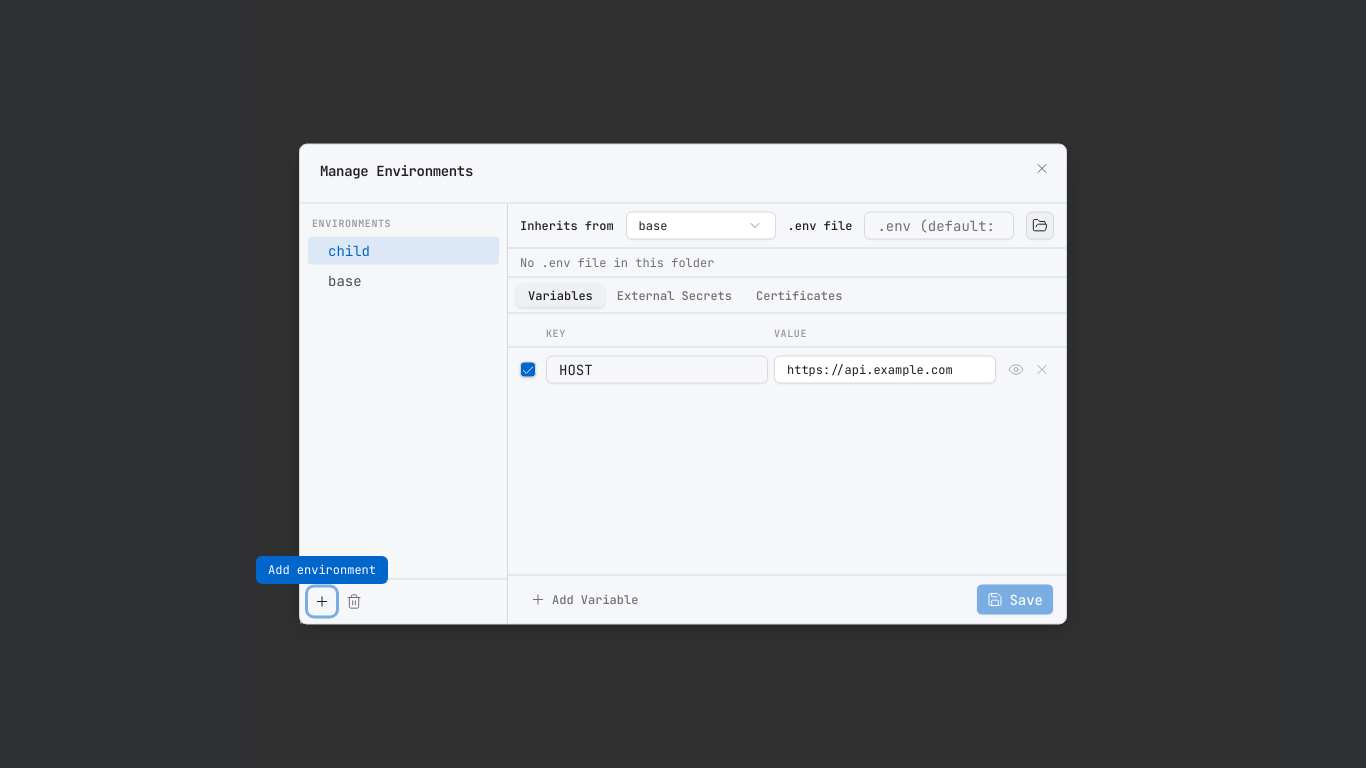
Scenario: EnvironmentDialog inherited rows › overridden_rows_are_not_listed_as_inherited
This screenshot has width=1366, height=768.
Expected: the field named "Variable key 1" is shown, x1=546 y1=356 x2=768 y2=384
Click the tab "External Secrets": (674,295) x1=605 y1=283 x2=744 y2=307
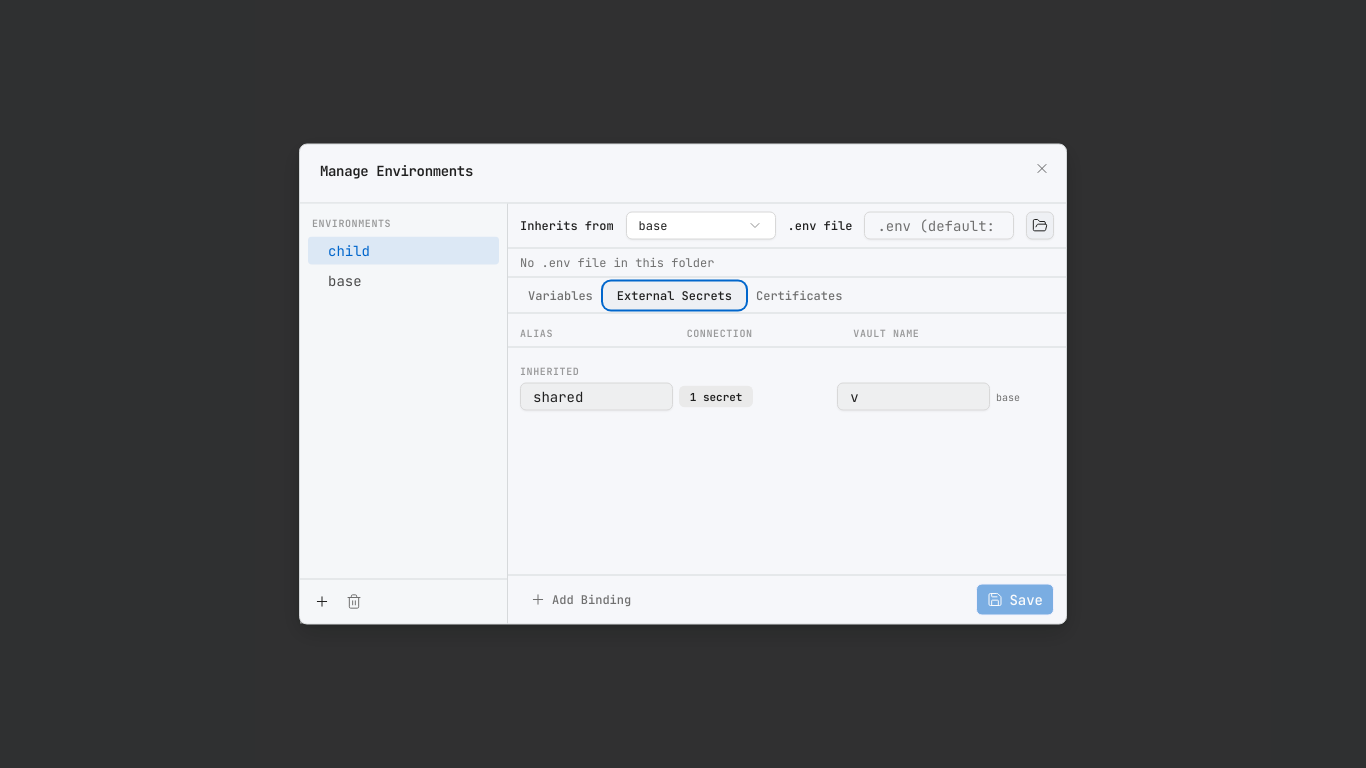
Now the field named "Inherited alias 1" holds "shared", box x1=520 y1=382 x2=673 y2=410
Click the tab "Certificates": (799,295) x1=744 y1=283 x2=854 y2=307
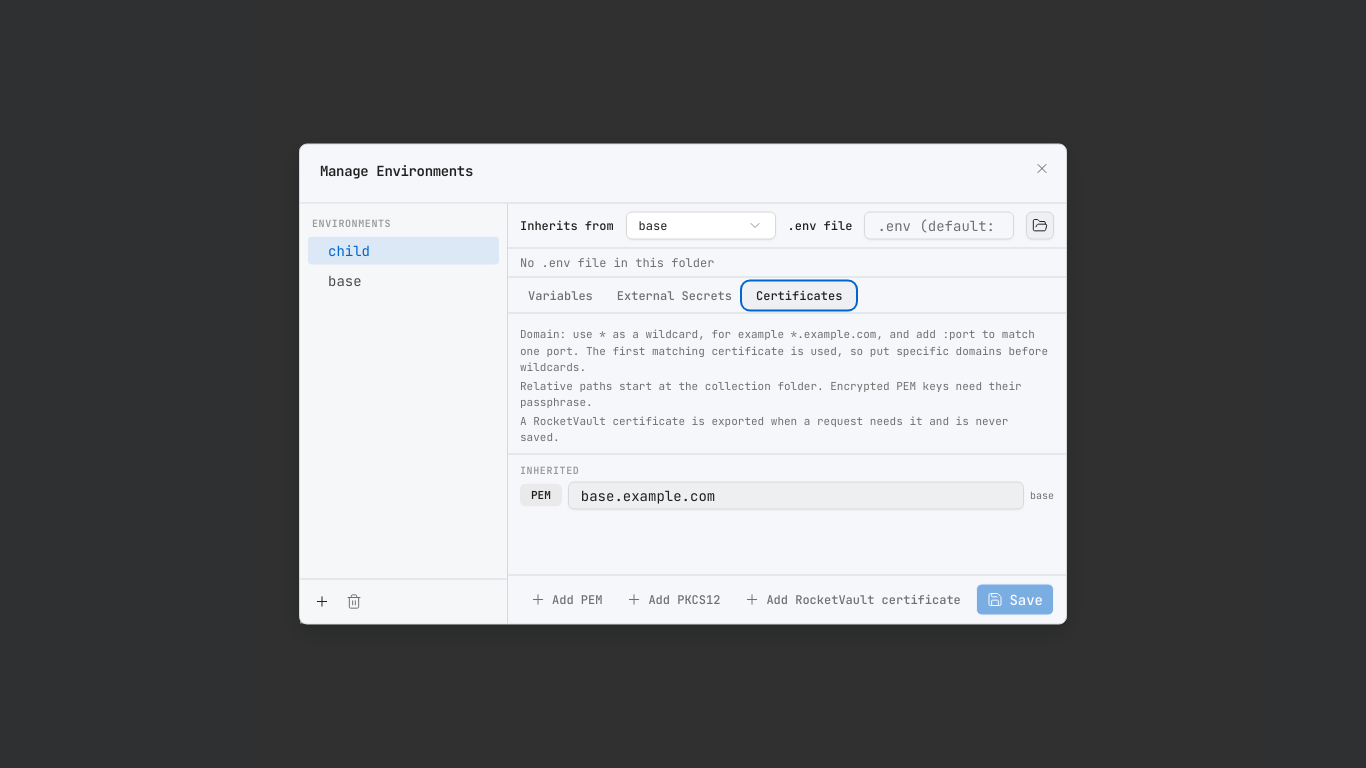
Now the field named "Inherited domain 1" holds "base.example.com", box x1=568 y1=481 x2=1024 y2=509
